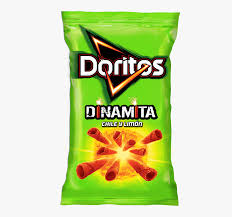Doritos: (58, 7, 183, 217)
